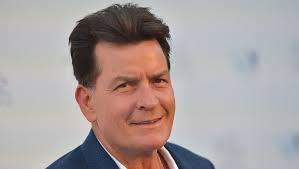No-Glasses: (102, 67, 177, 95)
